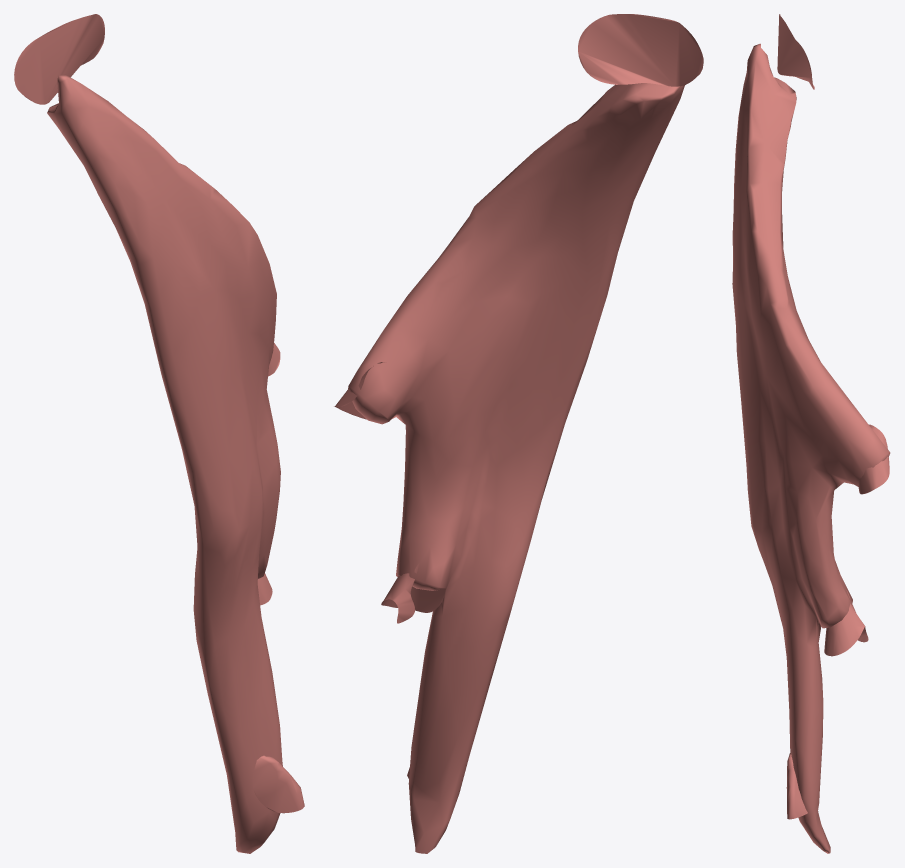
Rendered from fma46284_mm1293.glb.
The picture shows the model from 3 angles, left to right: view 1: azimuth 30°, elevation 25°; view 2: azimuth 150°, elevation 25°; view 3: azimuth 270°, elevation 25°; orthographic projection. The views are drawn at different scales.
Parts seen in each view (by area): view 1: FMA46284_MM1293; view 2: FMA46284_MM1293; view 3: FMA46284_MM1293.
Boxes of the visible parts, left/top/right/bottom form: FMA46284_MM1293: left=14, top=14, right=304, bottom=853; FMA46284_MM1293: left=334, top=14, right=703, bottom=853; FMA46284_MM1293: left=732, top=14, right=890, bottom=853.
Bounding box in the file's own units: 0.0265 × 0.0705 × 0.0135.
